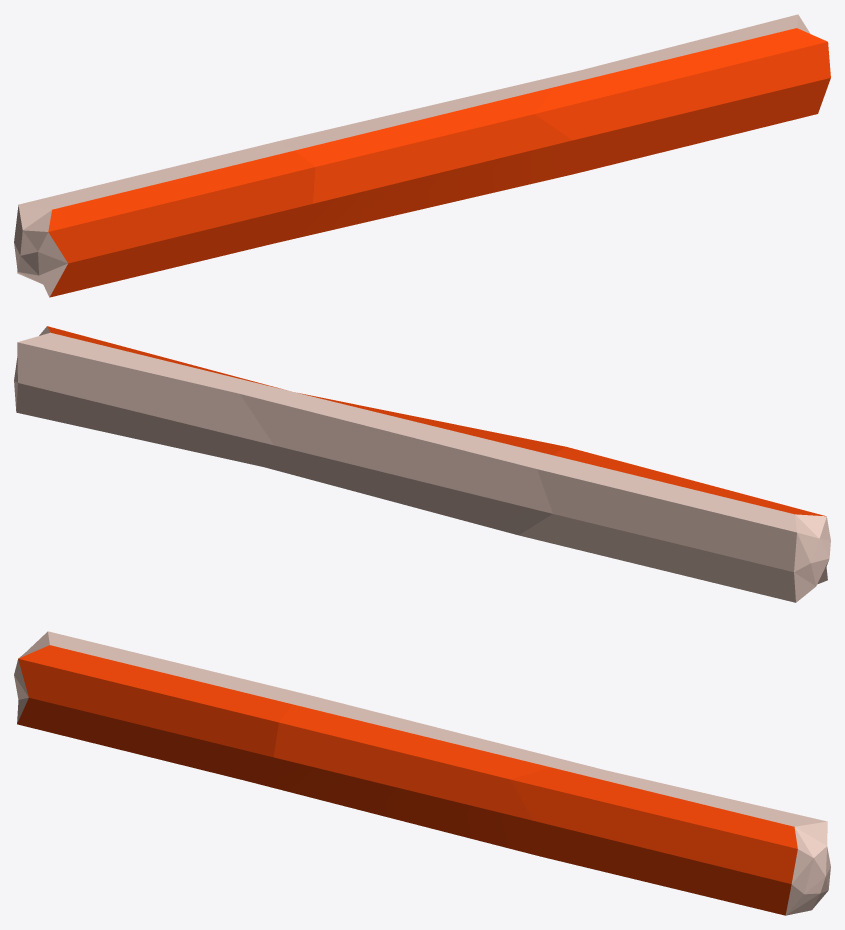
Rendered from CrabMeat.glb.
3 renders of one model, top to bottom at view 1: azimuth 30°, elevation 25°; view 2: azimuth 150°, elevation 25°; view 3: azimuth 330°, elevation 25°, orthographic.
Visible parts, largest first — view 1: CrabMeat; view 2: CrabMeat; view 3: CrabMeat.
Boxes of the visible parts, box(x1,y1,x2,y2) form: CrabMeat: box(14, 14, 830, 297); CrabMeat: box(14, 326, 830, 602); CrabMeat: box(14, 631, 830, 915).
Size of the model in its own units: 0.4175 by 0.0392 by 0.0335.
1 material, 1 textured.
